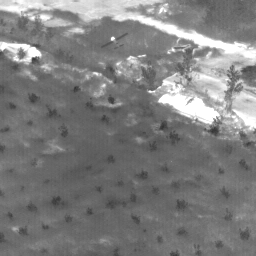aircraft: (112, 38, 114, 40)
